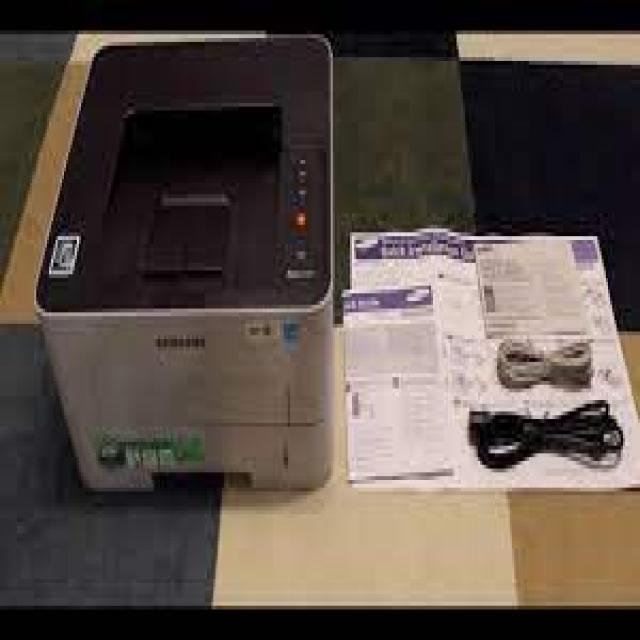printer: (34, 29, 338, 504)
